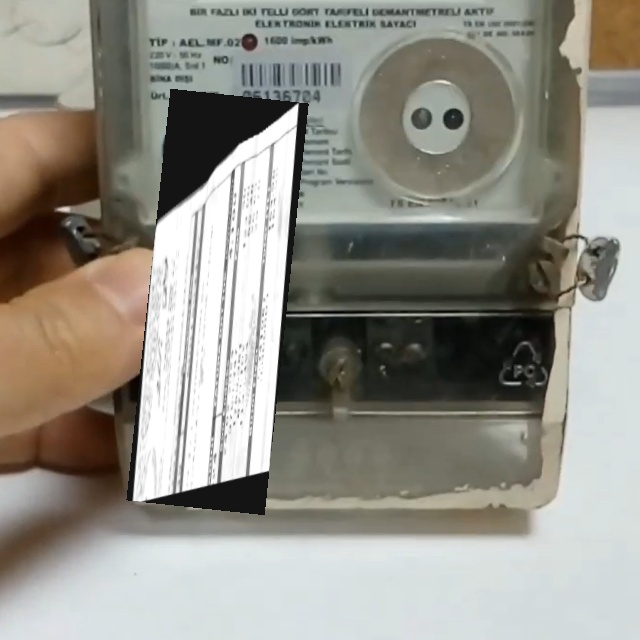electricity-bill: (125, 89, 308, 515)
